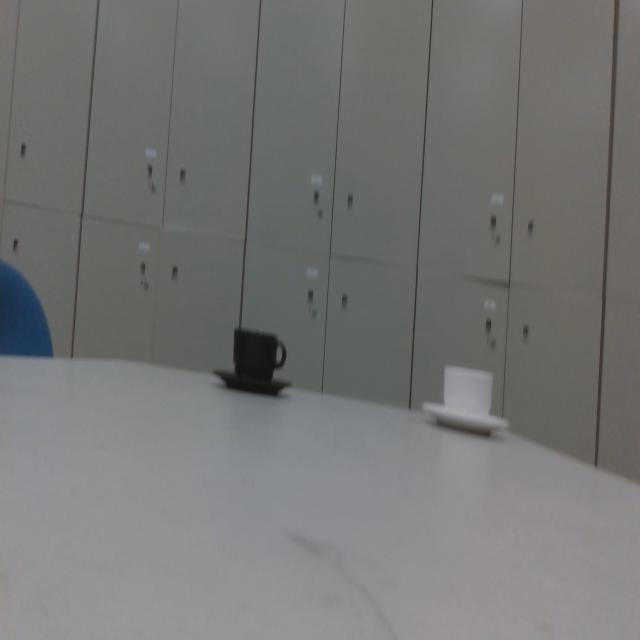black: (211, 325, 294, 396)
white: (420, 362, 511, 441)
